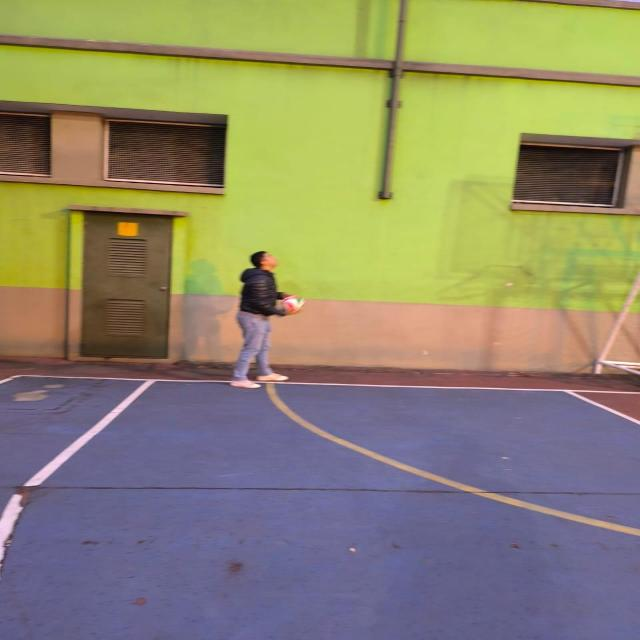volleyball: (282, 296, 306, 315)
